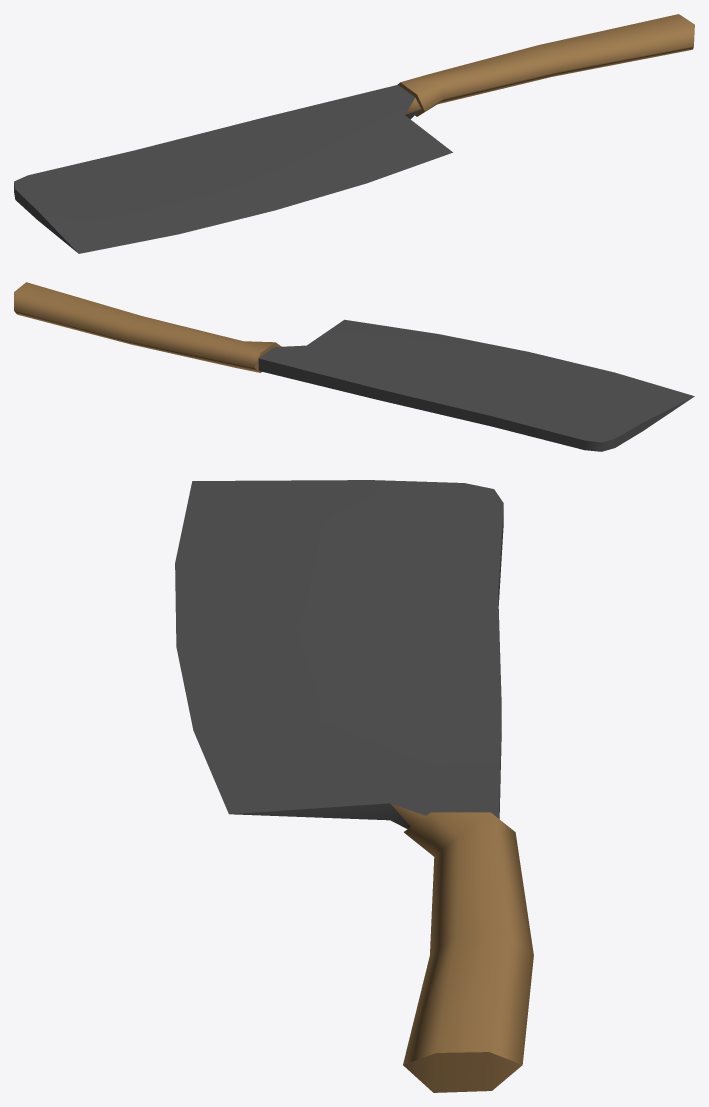
The model's file is cutelo.fbx.
3 renders of one model, top to bottom at view 1: azimuth 30°, elevation 25°; view 2: azimuth 150°, elevation 25°; view 3: azimuth 270°, elevation 25°, orthographic. The views are drawn at different scales.
Parts seen in each view (by area): view 1: cutelo; view 2: cutelo; view 3: cutelo.
Boxes of the visible parts, x1=… form: cutelo: x1=14, y1=14, x2=694, y2=253; cutelo: x1=14, y1=282, x2=694, y2=451; cutelo: x1=175, y1=480, x2=533, y2=1092.
Size of the model in its own units: 513 by 17.03 by 131.
